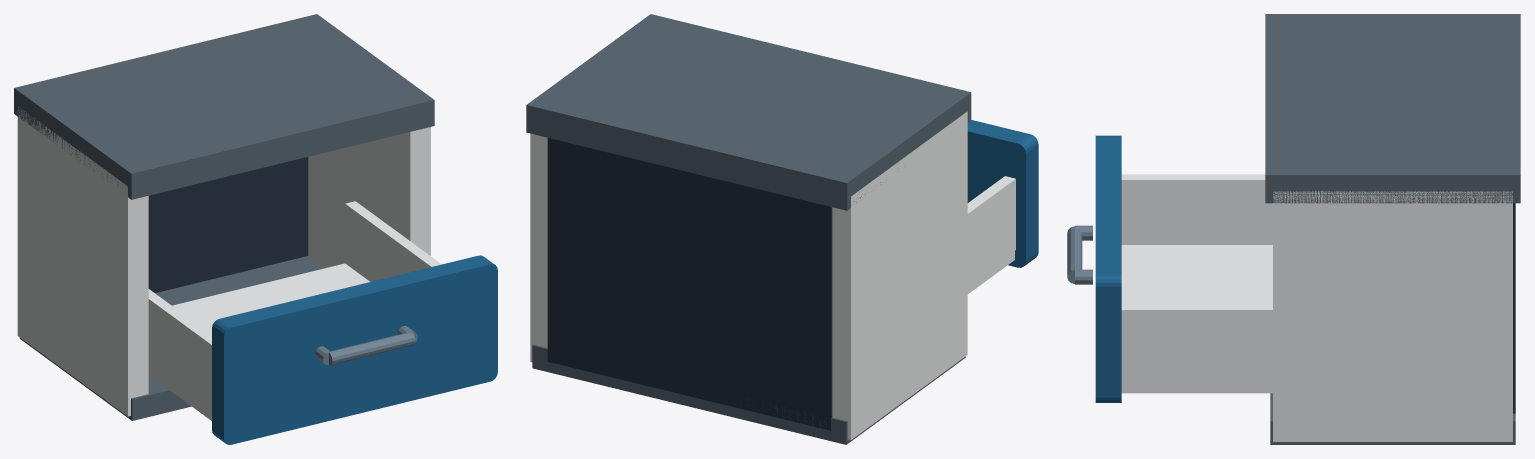
The model's file is drawer.glb.
3 renders of one model, left to right at view 1: azimuth 30°, elevation 25°; view 2: azimuth 150°, elevation 25°; view 3: azimuth 270°, elevation 25°, orthographic. The views are drawn at different scales.
Visible parts, largest first — view 1: top, drawer front, side -0.68, back, side 0.68, tray, tray side -0.59, tray side 0.59, bottom, drawer grip1; view 2: back, top, side -0.68, drawer front, bottom, tray side -0.59, side 0.68; view 3: side 0.68, top, tray side 0.59, tray, tray side -0.59, drawer front, bottom, drawer grip1, back.
Part boxes in pixels (box(x1,y1,x2,y2)): top: box(14, 14, 434, 199); drawer front: box(212, 255, 497, 444); side -0.68: box(17, 106, 148, 416); back: box(148, 157, 308, 292); side 0.68: box(308, 127, 430, 268); tray: box(148, 263, 369, 420); tray side -0.59: box(148, 289, 211, 411); tray side 0.59: box(345, 201, 441, 281); bottom: box(19, 256, 324, 420); drawer grip1: box(329, 332, 415, 365); back: box(547, 138, 832, 430); top: box(526, 14, 971, 210); side -0.68: box(832, 111, 967, 439); drawer front: box(967, 120, 1038, 267); bottom: box(532, 344, 965, 444); tray side -0.59: box(967, 176, 1015, 284); side 0.68: box(530, 133, 547, 362); side 0.68: box(1273, 191, 1512, 441); top: box(1265, 14, 1520, 203); tray side 0.59: box(1121, 304, 1272, 383); tray: box(1121, 245, 1272, 393); tray side -0.59: box(1121, 174, 1272, 244); drawer front: box(1095, 135, 1121, 402); bottom: box(1270, 393, 1515, 444); drawer grip1: box(1067, 226, 1082, 283); back: box(1513, 203, 1515, 413).
Bounding box in the file's own units: 1.46 × 1.15 × 1.74.
